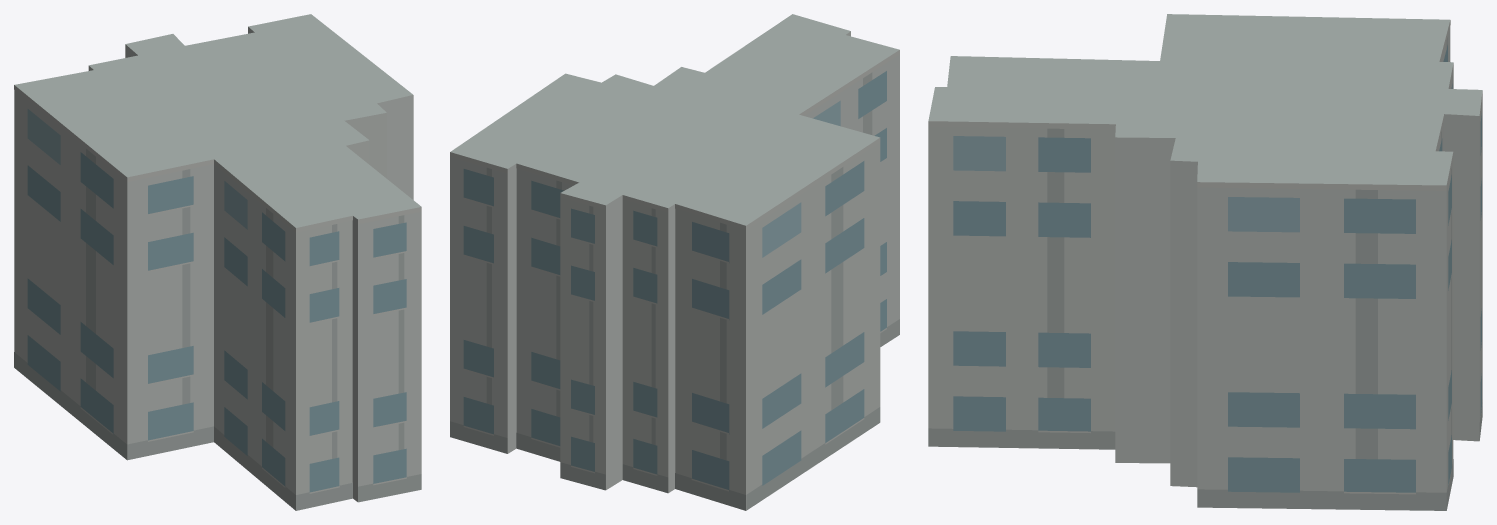
Rendered from survey-upis-32831211.glb.
The picture shows the model from 3 angles, left to right: view 1: azimuth 30°, elevation 25°; view 2: azimuth 150°, elevation 25°; view 3: azimuth 270°, elevation 25°; orthographic projection. The views are drawn at different scales.
Parts seen in each view (by area): view 1: survey-upis-32831211.tmp; view 2: survey-upis-32831211.tmp; view 3: survey-upis-32831211.tmp.
Part boxes in pixels (bbox=[...]): survey-upis-32831211.tmp: bbox=[14, 14, 421, 510]; survey-upis-32831211.tmp: bbox=[450, 14, 899, 510]; survey-upis-32831211.tmp: bbox=[928, 14, 1482, 510].
Bounding box in the file's own units: 16.28 × 14.4 × 22.24.
